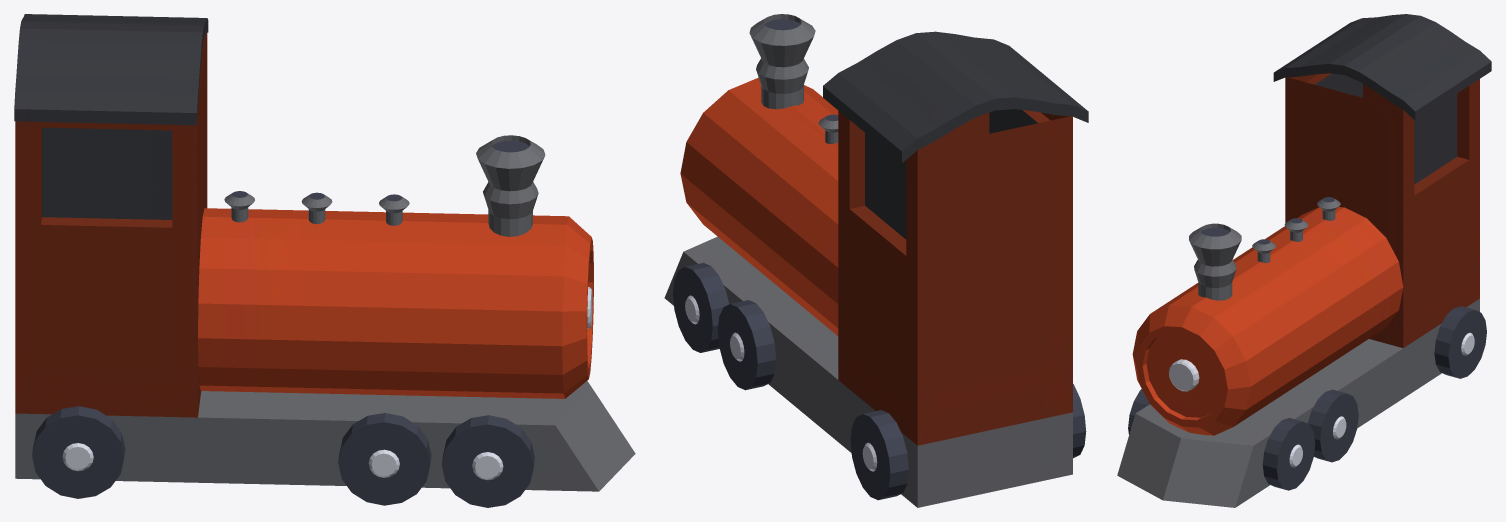
File: TrainFront.fbx
3 views of the same model, side by side, from view 1: azimuth 30°, elevation 25°; view 2: azimuth 150°, elevation 25°; view 3: azimuth 270°, elevation 25° (orthographic). The views are drawn at different scales.
Parts seen in each view (by area): view 1: Cylinder, Body, Base, Wheels 2, Roof, Smoke thingy 1, Cylinder.001; view 2: Body, Cylinder, Base, Roof, Wheels, Smoke thingy 1, Wheels 2; view 3: Cylinder, Body, Base, Roof, Wheels, Smoke thingy 1, Cylinder.001.
Boxes of the visible parts, x1,y1,x2,y2 form: Cylinder: [198, 208, 593, 398]; Body: [15, 31, 207, 417]; Base: [15, 381, 635, 491]; Wheels 2: [32, 406, 534, 507]; Roof: [14, 14, 208, 125]; Smoke thingy 1: [476, 135, 545, 236]; Cylinder.001: [224, 191, 409, 225]; Body: [838, 109, 1072, 445]; Cylinder: [680, 77, 838, 335]; Base: [664, 236, 1072, 507]; Roof: [823, 31, 1088, 162]; Wheels: [673, 263, 908, 500]; Smoke thingy 1: [749, 14, 815, 109]; Wheels 2: [1073, 384, 1086, 458]; Cylinder: [1132, 207, 1403, 435]; Body: [1285, 73, 1479, 348]; Base: [1117, 298, 1479, 507]; Roof: [1273, 14, 1491, 120]; Wheels: [1262, 306, 1486, 490]; Smoke thingy 1: [1189, 223, 1241, 300]; Cylinder.001: [1252, 197, 1340, 262].
Bounding box in the file's own units: 656 × 507 × 533.
